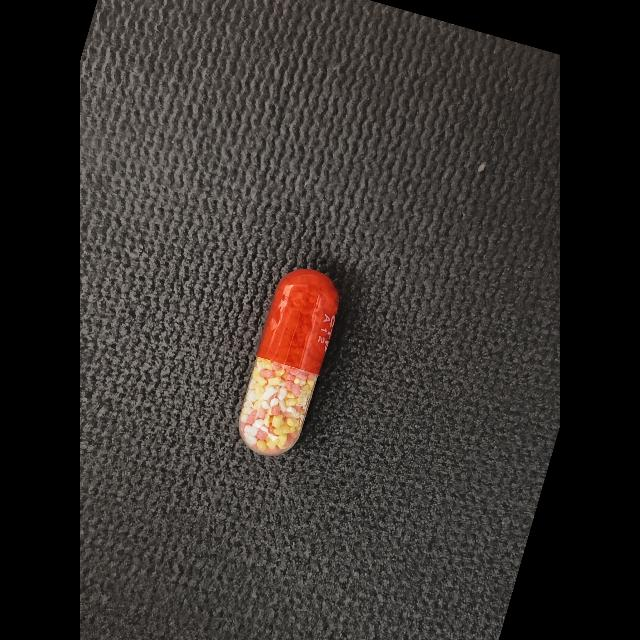Intact Capsule: (239, 269, 339, 456)
